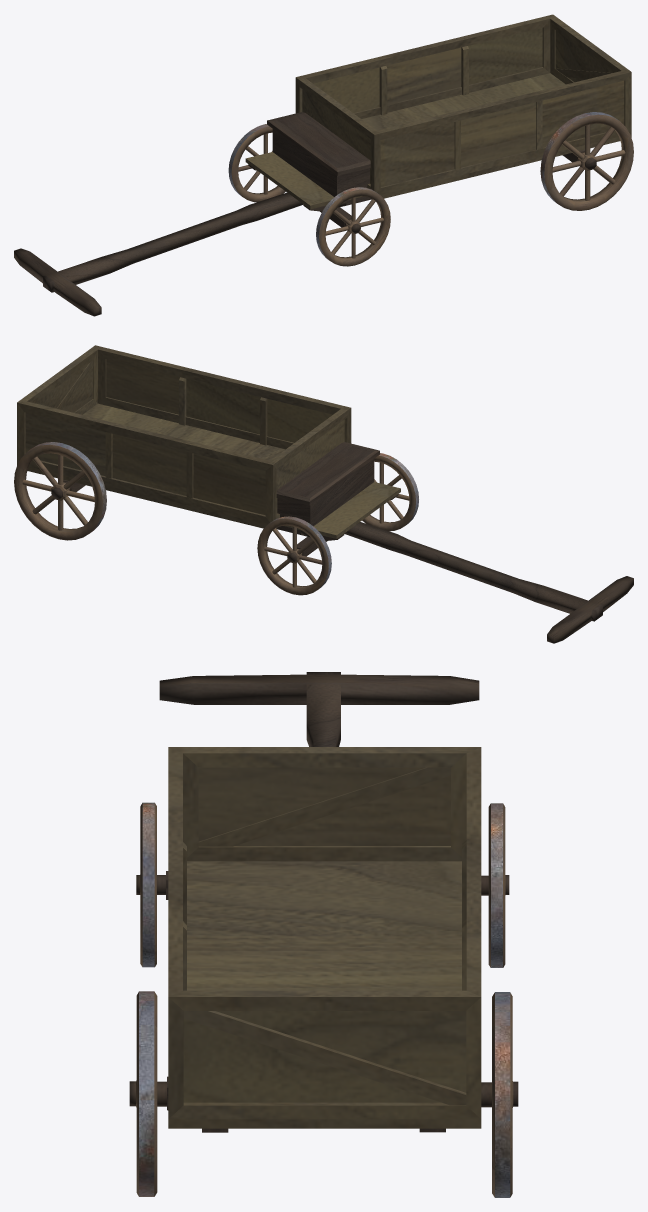
File: wagon_no_cover.fbx
3 views of the same model, one above another, from view 1: azimuth 30°, elevation 25°; view 2: azimuth 150°, elevation 25°; view 3: azimuth 270°, elevation 25° (orthographic). The views are drawn at different scales.
Visible parts, largest first — view 1: wagwan, undercarriage, wheels, seatcover, metal; view 2: wagwan, undercarriage, wheels, seatcover, metal; view 3: wagwan, undercarriage, metal, wheels.
Boxes of the visible parts, x1=… form: wagwan: x1=245, y1=14, x2=631, y2=209; undercarriage: x1=14, y1=129, x2=596, y2=316; wheels: x1=231, y1=114, x2=633, y2=266; seatcover: x1=267, y1=112, x2=370, y2=175; metal: x1=228, y1=112, x2=618, y2=259; wagwan: x1=17, y1=345, x2=400, y2=538; undercarriage: x1=51, y1=459, x2=633, y2=643; wheels: x1=14, y1=444, x2=415, y2=595; seatcover: x1=276, y1=442, x2=379, y2=505; metal: x1=29, y1=442, x2=418, y2=588; wagwan: x1=168, y1=747, x2=481, y2=1128; undercarriage: x1=129, y1=672, x2=518, y2=1132; metal: x1=139, y1=802, x2=510, y2=1197; wheels: x1=136, y1=803, x2=513, y2=1197.
Bounding box in the file's own units: 710 × 149 × 220.
Materials: 5 (5 with a texture image).
